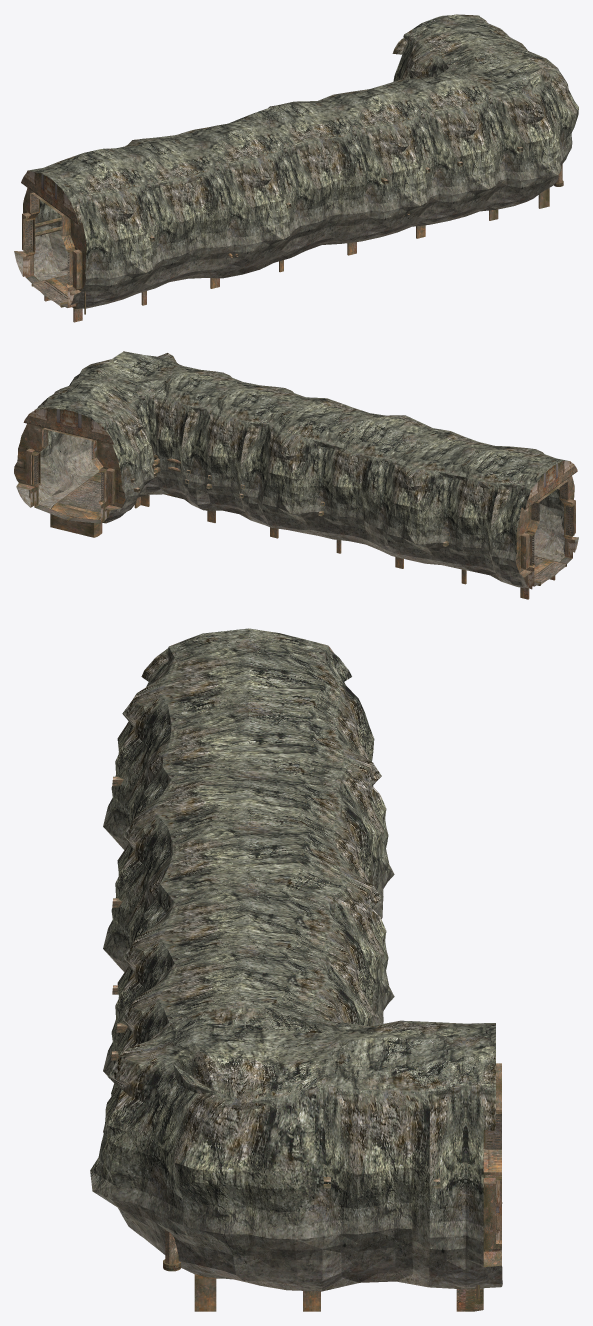
Rendered from poi_all_bunker_allum_mine_r61_hall61_mesh_r61.fbx.
3 views of the same model, one above another, from view 1: azimuth 30°, elevation 25°; view 2: azimuth 150°, elevation 25°; view 3: azimuth 270°, elevation 25° (orthographic). The views are drawn at different scales.
Visible parts, largest first — view 1: mesh_node; view 2: mesh_node; view 3: mesh_node.
Boxes of the visible parts, left/top/right/bottom form: mesh_node: left=14, top=14, right=578, bottom=322; mesh_node: left=14, top=351, right=578, bottom=599; mesh_node: left=90, top=628, right=502, bottom=1311.
Bounding box in the file's own units: 30.71 × 7.73 × 11.42.
